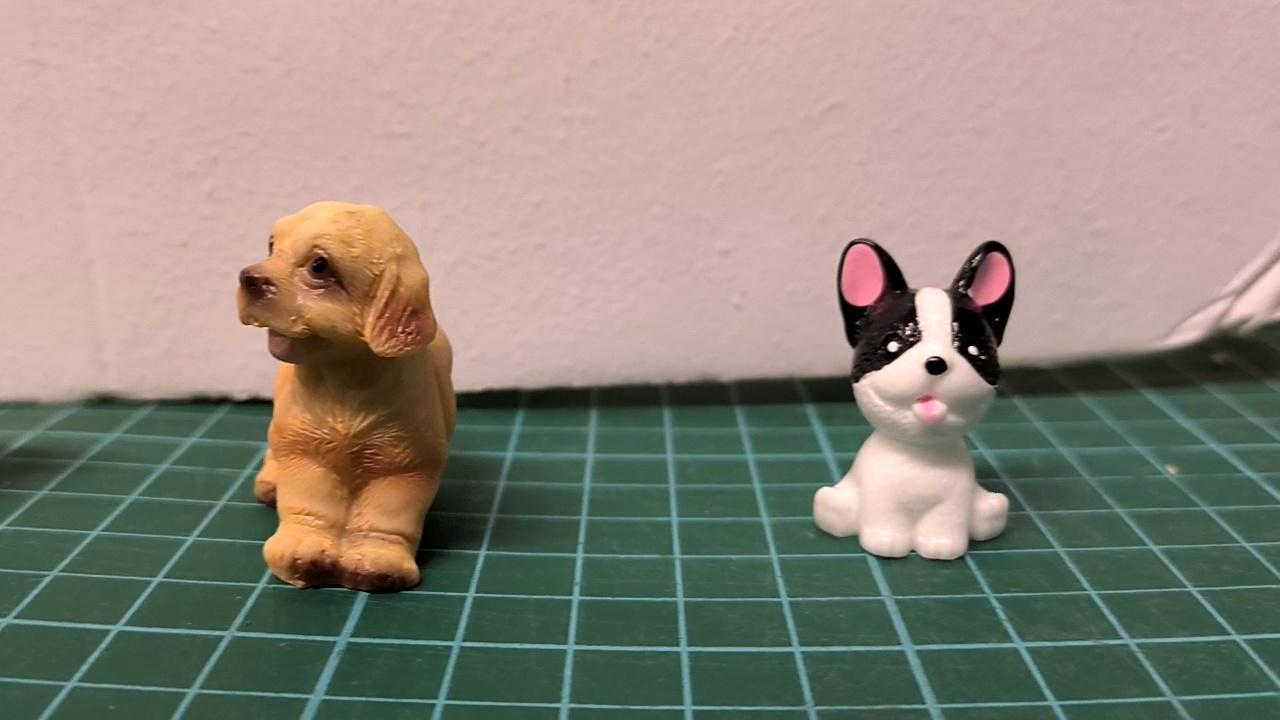pet: (236, 200, 457, 594), (813, 238, 1018, 561)
